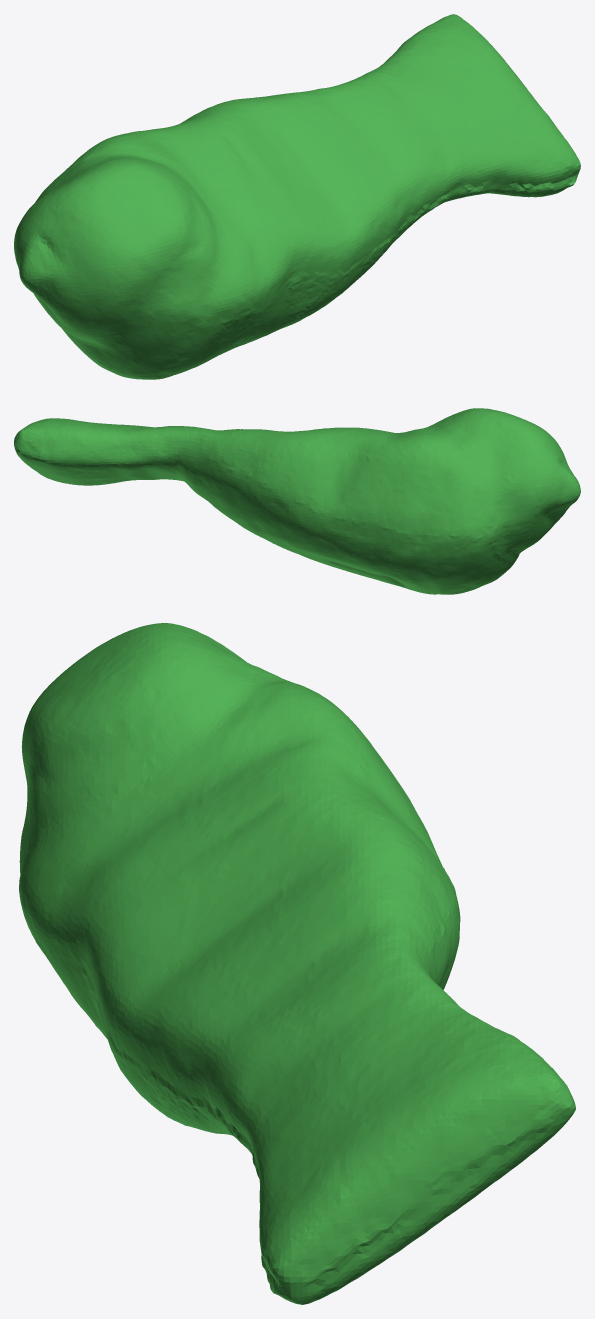
File: bird.glb
3 renders of one model, top to bottom at view 1: azimuth 30°, elevation 25°; view 2: azimuth 150°, elevation 25°; view 3: azimuth 270°, elevation 25°, orthographic. The views are drawn at different scales.
Visible parts, largest first — view 1: Mesh; view 2: Mesh; view 3: Mesh.
Part boxes in pixels (x1,y1,x2,y2): Mesh: [14, 14, 580, 379]; Mesh: [14, 408, 580, 594]; Mesh: [19, 623, 575, 1304].
Size of the model in its own units: 127 by 44.08 by 62.42.
